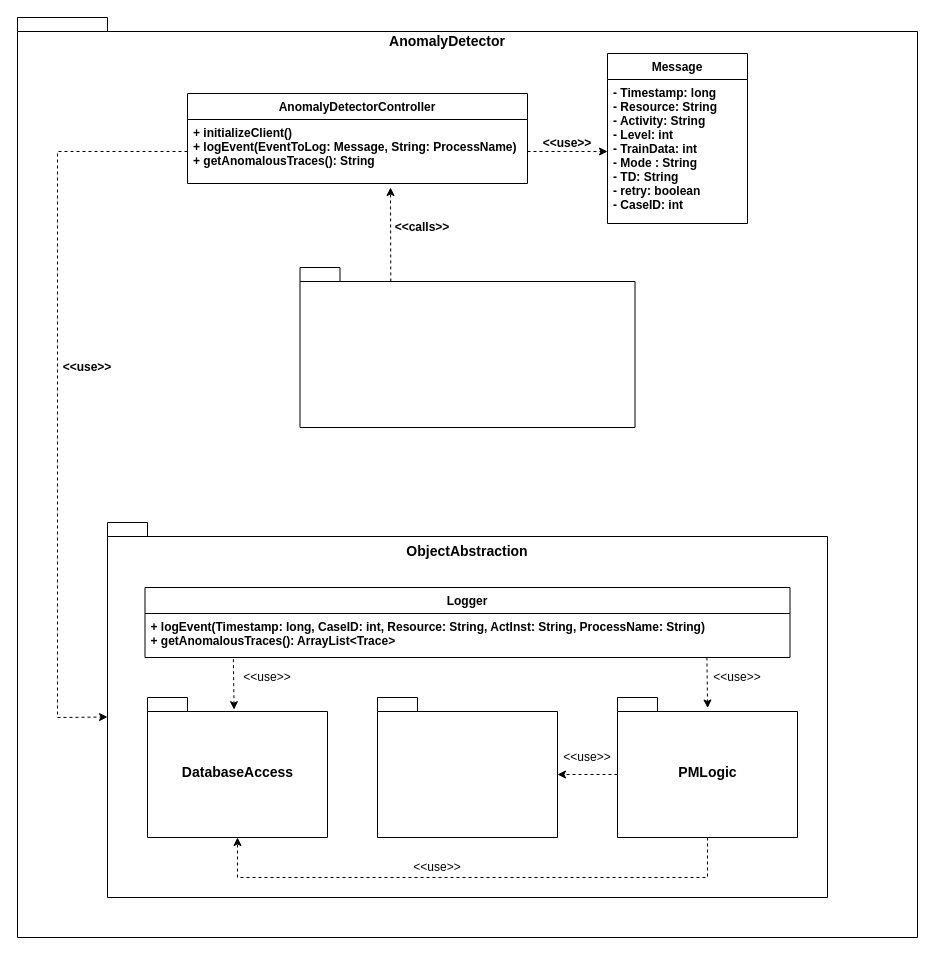
This 935x955 diagram has some shape labels left out. Here are the shapes that lost their labels. From the top down, the centre of each, then its label:
At (x=467, y=347): "Middleware".
At (x=467, y=767): "FileSystemAccess".
